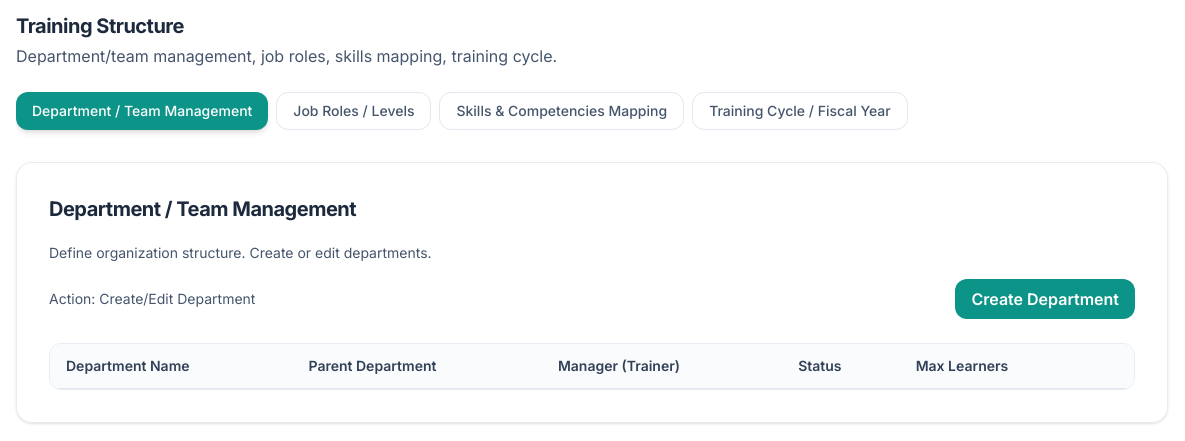
Test case: AcademicSetup – tab switching › switches to Job Roles tab when clicked
Click the button "Job Roles / Levels" at (354, 111), box top-left (276, 92), bottom-right (431, 130)
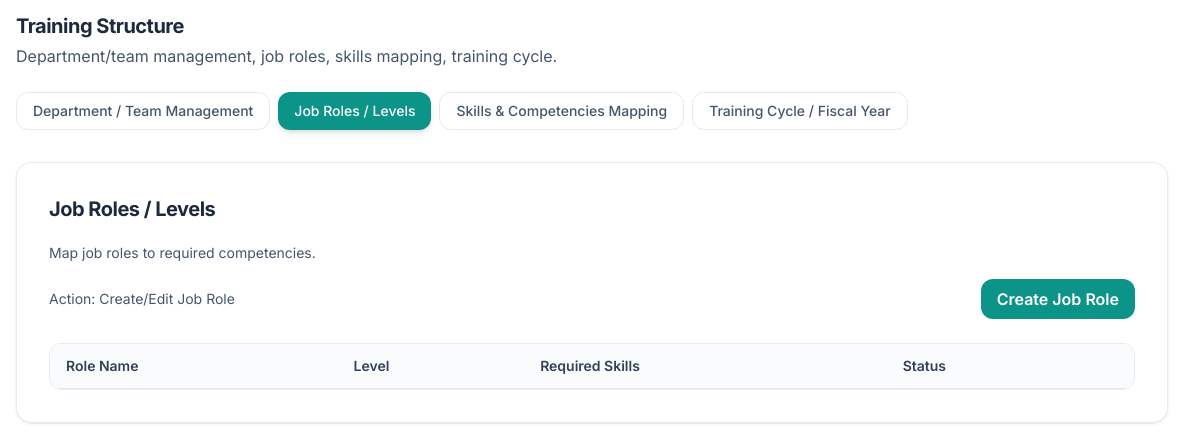
Expected: the button "Create Job Role" is shown, top-left (981, 279), bottom-right (1135, 319)
Expected: the column heading "Role Name" is shown, top-left (50, 344), bottom-right (338, 388)
